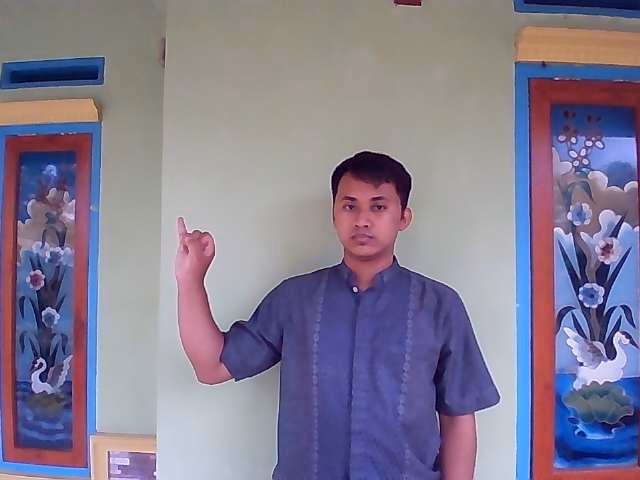I: (168, 214, 222, 292)
